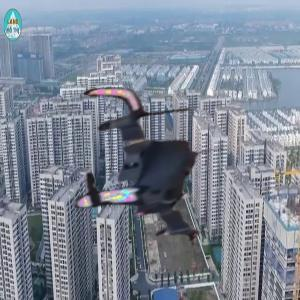drone: (46, 77, 232, 263)
